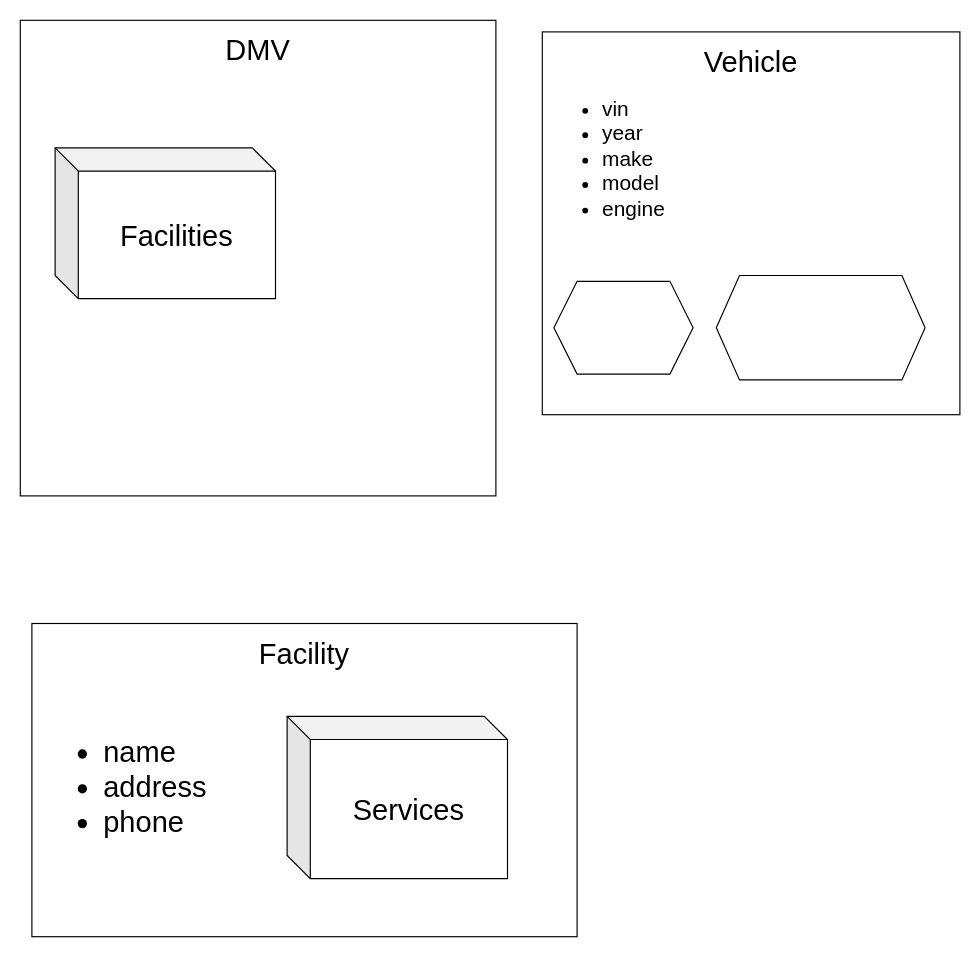
The diagram is 980 pixels wide and 957 high, and some of its shapes have lost their labels. The shapes that lost their labels are listed below. From the top down, each one's centre as x and y in pixels, then its label:
At (x=623, y=327): "antique?".
At (x=820, y=327): "electric_vehicle?".
